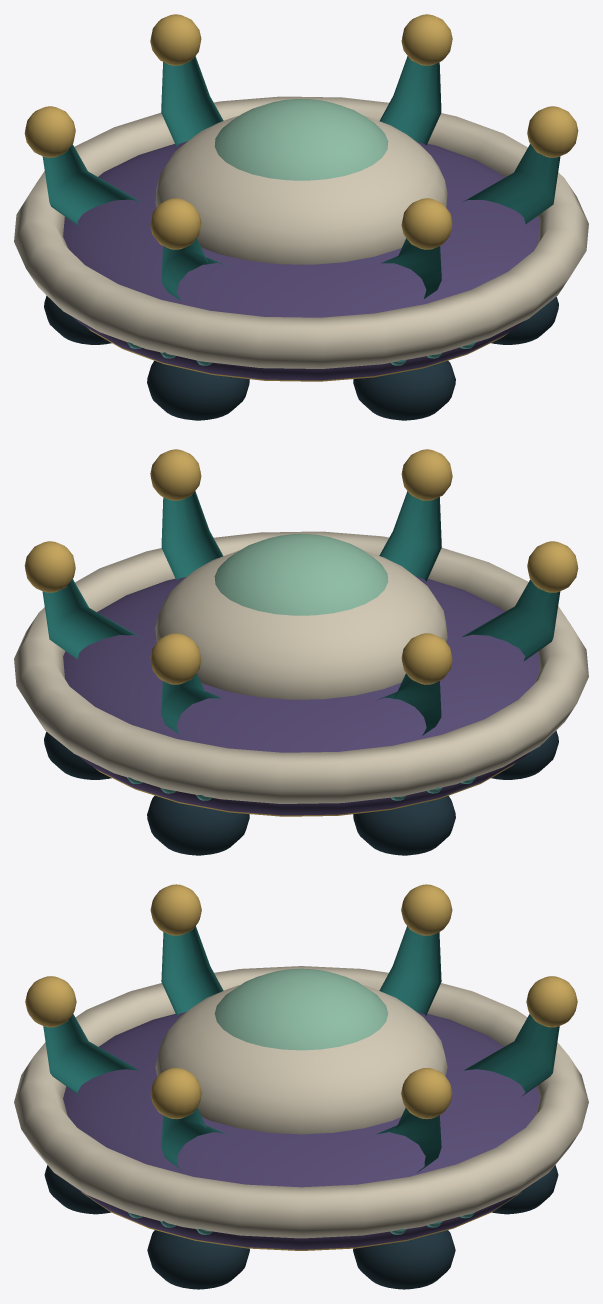
The model's file is alien-boss-lod1.glb.
3 views of the same model, one above another, from view 1: azimuth 30°, elevation 25°; view 2: azimuth 150°, elevation 25°; view 3: azimuth 270°, elevation 25° (orthographic).
Parts seen in each view (by area): view 1: shell; view 2: shell; view 3: shell.
Boxes of the visible parts, x1,y1,x2,y2 form: shell: [14, 14, 588, 420]; shell: [14, 449, 588, 855]; shell: [14, 884, 588, 1289].
Size of the model in its own units: 3.58 by 1.63 by 3.58.
